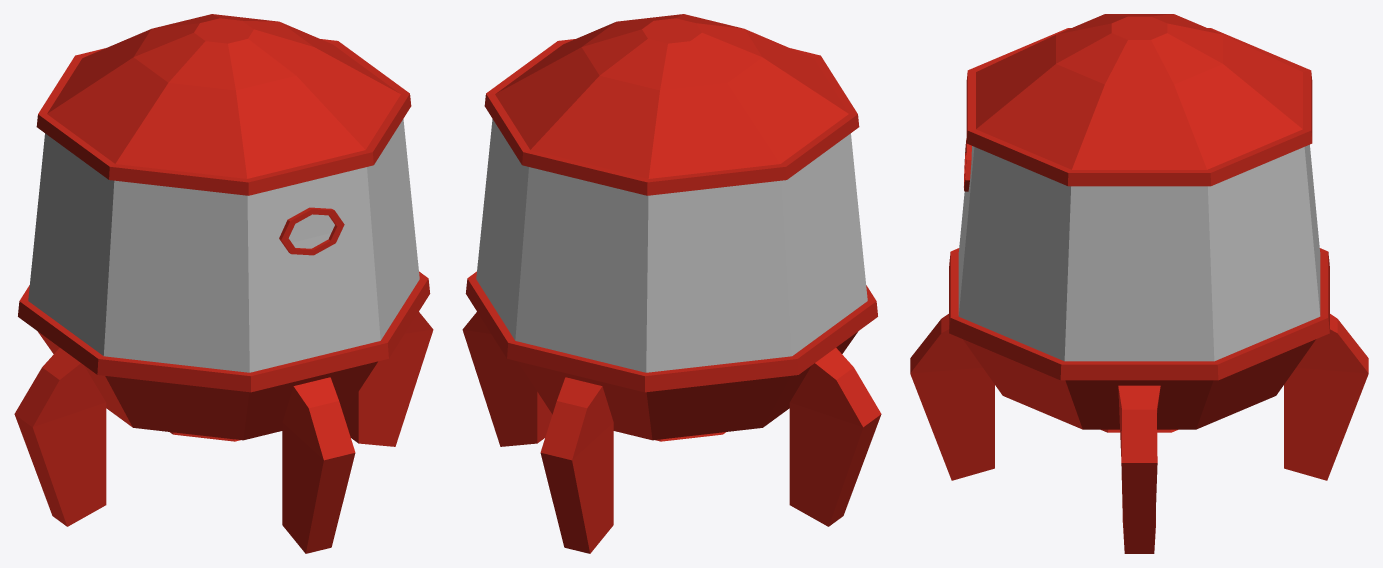
Rendered from rocket.obj.
3 renders of one model, left to right at view 1: azimuth 30°, elevation 25°; view 2: azimuth 150°, elevation 25°; view 3: azimuth 270°, elevation 25°, orthographic.
Parts seen in each view (by area): view 1: Fusée_Cylinder, Hublot_Cylinder.001; view 2: Fusée_Cylinder; view 3: Fusée_Cylinder.
Part boxes in pixels (x1=…): Fusée_Cylinder: x1=14, y1=14, x2=433, y2=553; Hublot_Cylinder.001: x1=279, y1=207, x2=344, y2=255; Fusée_Cylinder: x1=462, y1=14, x2=881, y2=553; Fusée_Cylinder: x1=910, y1=14, x2=1368, y2=553.
Bounding box in the file's own units: 1.79 × 1.93 × 1.79.
